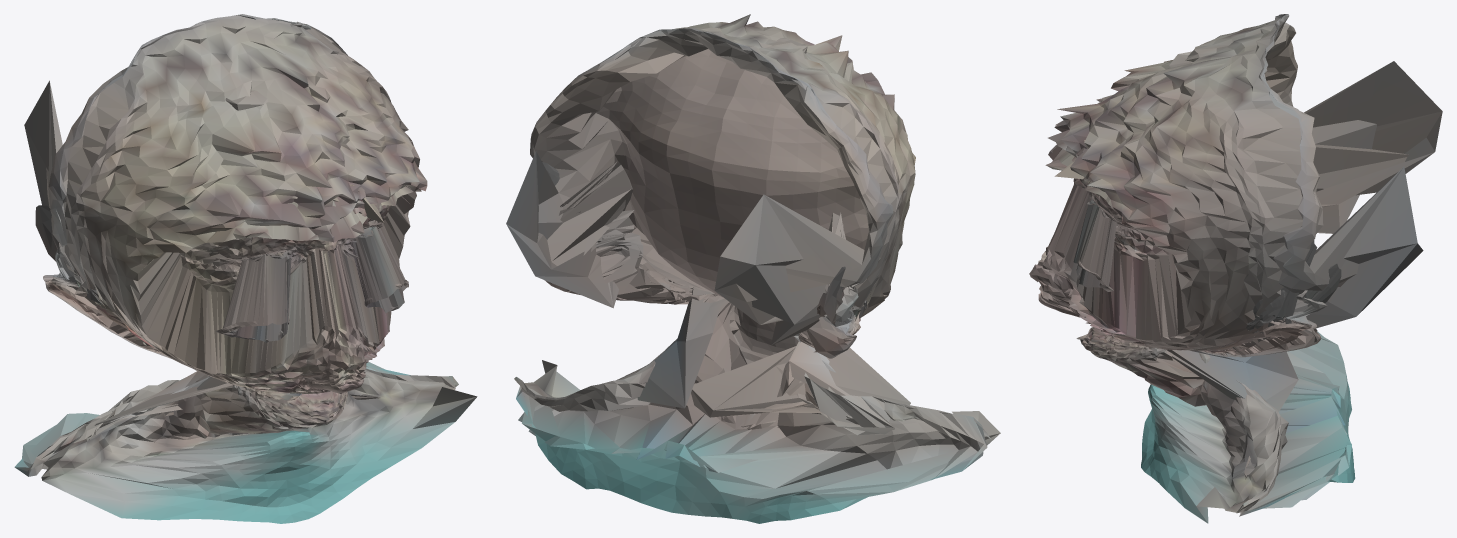
The model's file is chibi_textured_mesh.obj.
3 views of the same model, side by side, from view 1: azimuth 30°, elevation 25°; view 2: azimuth 150°, elevation 25°; view 3: azimuth 270°, elevation 25° (orthographic). The views are drawn at different scales.
Bounding box in the file's own units: 0.327 × 0.3176 × 0.2797.
